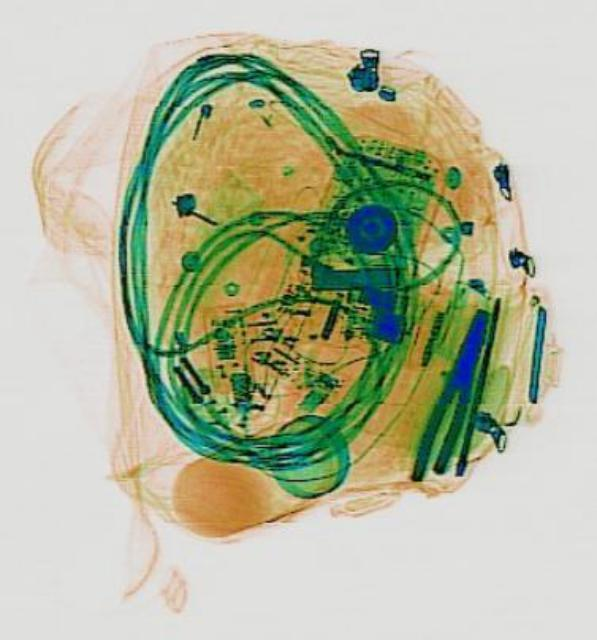Pliers: (404, 301, 498, 487)
